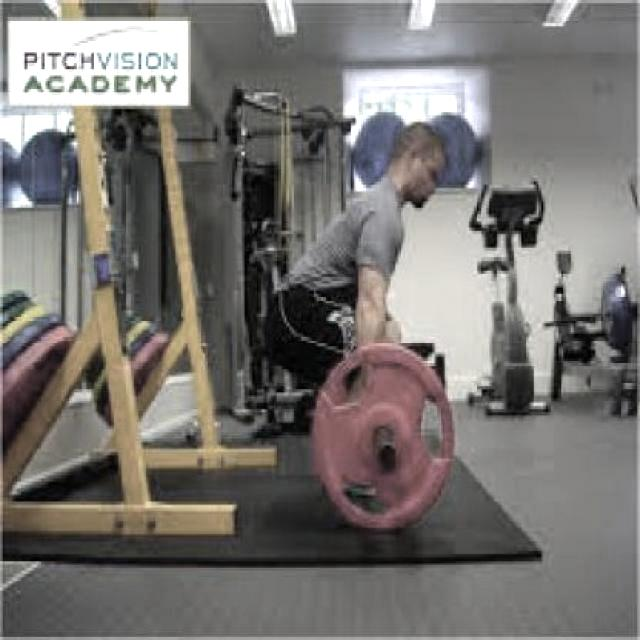barbell: (306, 337, 460, 542)
